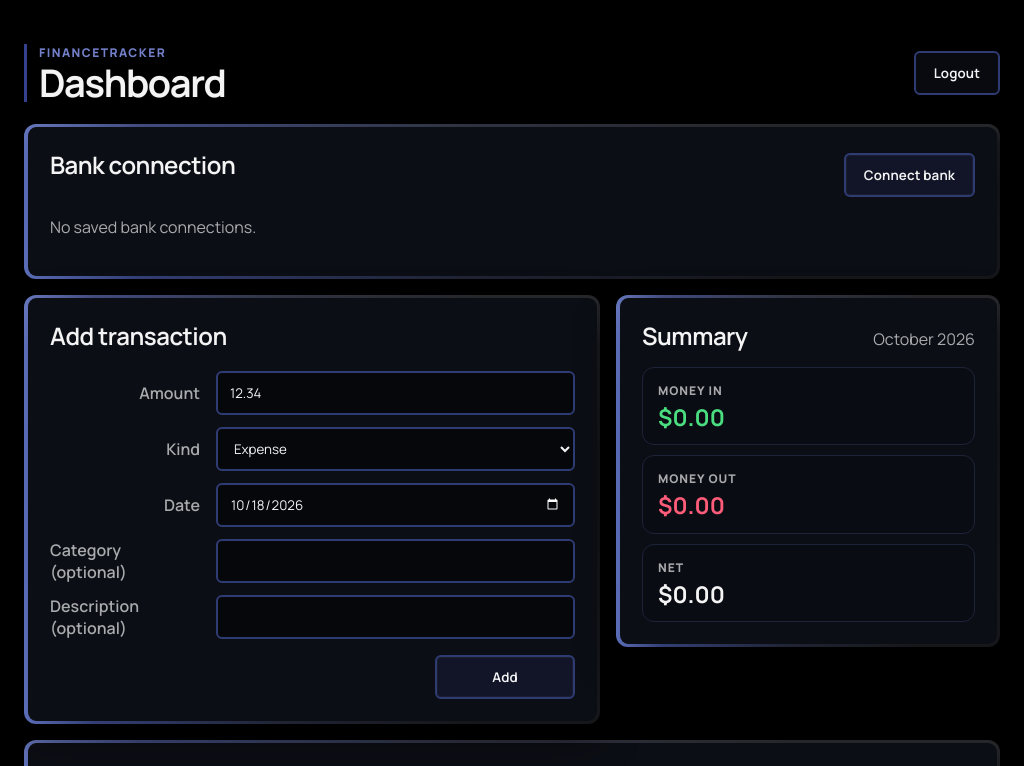
dashboard correctness › prevents duplicate transaction submissions while the request is pending
Click the button "Add". click: point(505, 677)
box: [435,655,575,699]
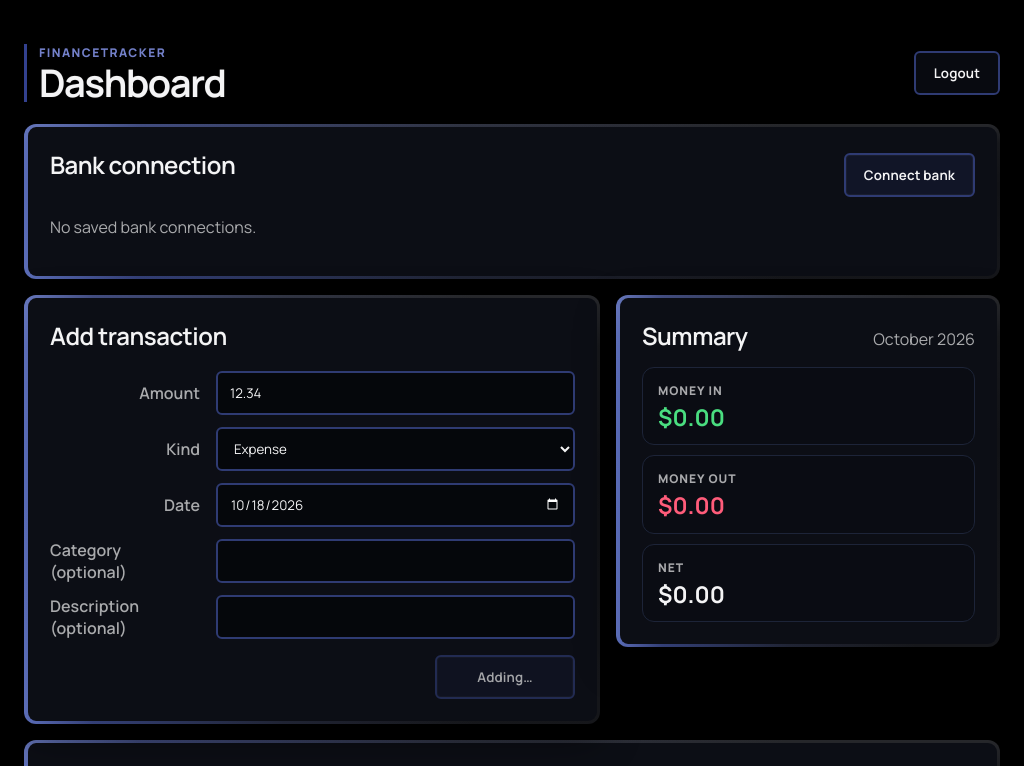
Result: the button "Adding…" is disabled
Result: the button "Adding…" is shown
Click the button "Adding…". click: point(505, 677)
box: [435,655,575,699]
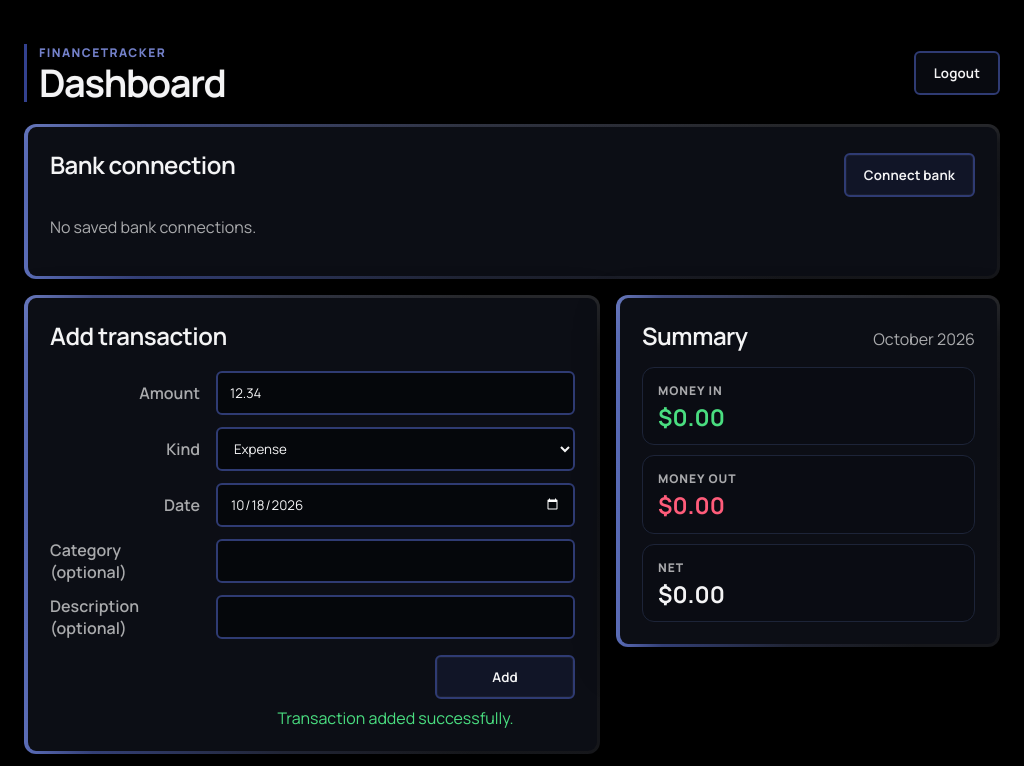
Result: the button "Add" is enabled at [435,655,575,699]
